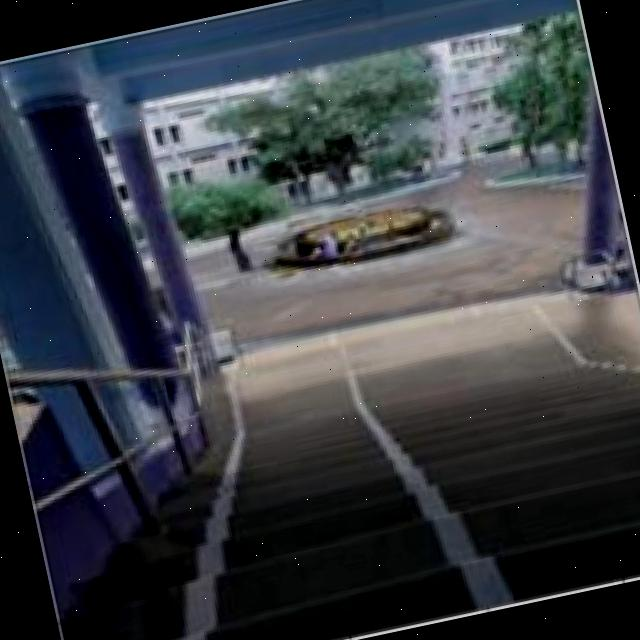stairs: (12, 267, 640, 640)
